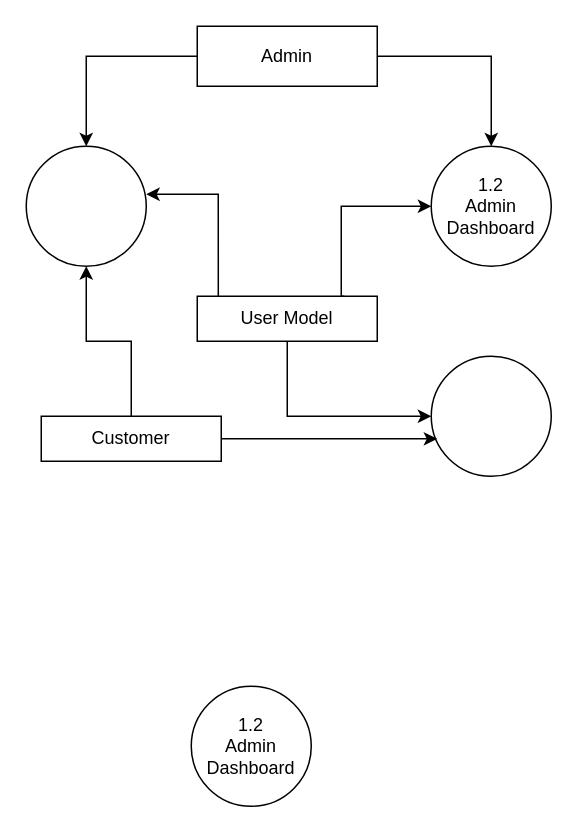
This 578x833 diagram has some shape labels left out. The box of each missing label's shape, as (x1, y1, x2, y2) in pixels:
1.1 Login: (25, 145, 146, 266)
1.3 Customer Dashboard: (430, 355, 551, 476)
